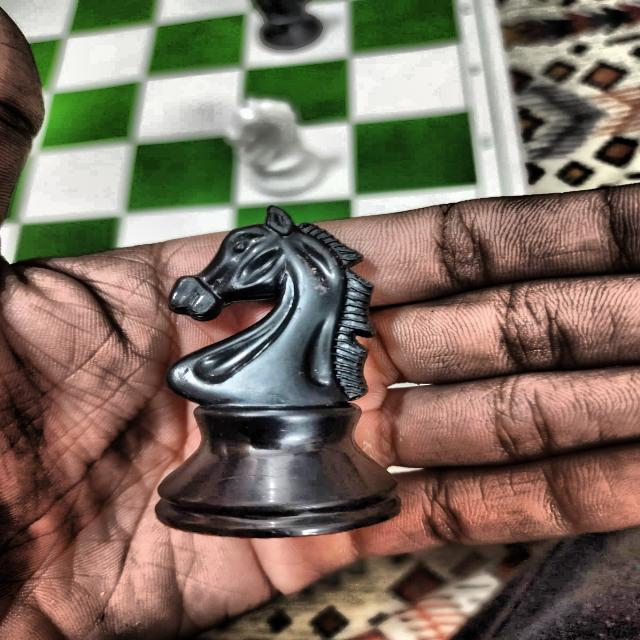BlackKnight: (154, 206, 404, 540)
